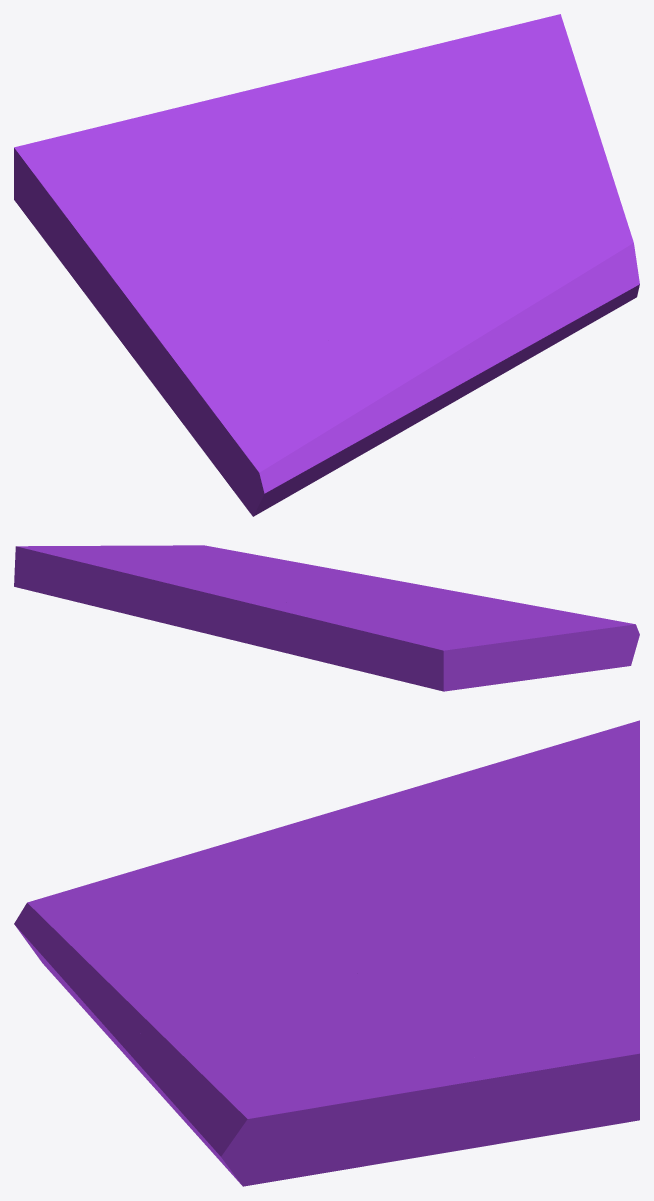
The model's file is Window_144_0_chunks.fbx.
3 renders of one model, top to bottom at view 1: azimuth 30°, elevation 25°; view 2: azimuth 150°, elevation 25°; view 3: azimuth 270°, elevation 25°, orthographic. The views are drawn at different scales.
Visible parts, largest first — view 1: Window_144_0_2, Window_144_0_0, Window_144_0_7, Window_144_0_18, Window_144_0_3, Window_144_0_11, Window_144_0_15, Window_144_0_9, Window_144_0_13, Window_144_0_6, Window_144_0_14, Window_144_0_5 (+5 smaller); view 2: Window_144_0_0, Window_144_0_2, Window_144_0_7, Window_144_0_15, Window_144_0_16, Window_144_0_5, Window_144_0_18, Window_144_0_3, Window_144_0_11, Window_144_0_6, Window_144_0_14, Window_144_0_4 (+6 smaller); view 3: Window_144_0_2, Window_144_0_0, Window_144_0_18, Window_144_0_7, Window_144_0_4, Window_144_0_3, Window_144_0_11, Window_144_0_15, Window_144_0_13, Window_144_0_12, Window_144_0_6, Window_144_0_9 (+6 smaller).
Boxes of the visible parts, x1,y1,x2,y2 form: Window_144_0_2: (52, 198, 312, 395); Window_144_0_0: (14, 91, 285, 250); Window_144_0_7: (162, 331, 371, 516); Window_144_0_18: (418, 14, 593, 121); Window_144_0_3: (213, 131, 388, 268); Window_144_0_11: (379, 225, 516, 371); Window_144_0_15: (294, 49, 469, 158); Window_144_0_9: (351, 311, 506, 440); Window_144_0_13: (511, 234, 639, 368); Window_144_0_6: (351, 151, 513, 233); Window_144_0_14: (424, 206, 607, 288); Window_144_0_5: (246, 79, 399, 195); Window_144_0_0: (262, 601, 474, 691); Window_144_0_2: (407, 606, 585, 687); Window_144_0_7: (462, 600, 639, 675); Window_144_0_15: (126, 568, 238, 630); Window_144_0_16: (14, 552, 143, 618); Window_144_0_5: (195, 582, 309, 653); Window_144_0_18: (15, 545, 170, 575); Window_144_0_3: (281, 588, 420, 618); Window_144_0_11: (301, 568, 408, 592); Window_144_0_6: (206, 564, 327, 593); Window_144_0_14: (216, 550, 312, 581); Window_144_0_4: (112, 545, 228, 567); Window_144_0_2: (185, 749, 543, 923); Window_144_0_0: (449, 720, 639, 890); Window_144_0_18: (460, 967, 639, 1117); Window_144_0_7: (14, 855, 238, 996); Window_144_0_4: (311, 1020, 505, 1175); Window_144_0_3: (343, 852, 559, 963); Window_144_0_11: (137, 961, 357, 1112); Window_144_0_15: (453, 891, 639, 1005); Window_144_0_13: (151, 1049, 261, 1186); Window_144_0_12: (260, 1034, 356, 1183); Window_144_0_6: (357, 937, 483, 1040); Window_144_0_9: (73, 950, 224, 1109).
Size of the model in its own units: 1101 by 373 by 870.
